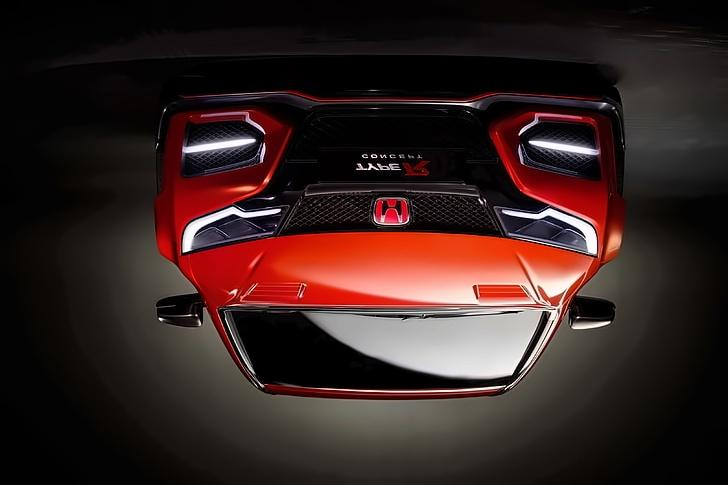Car hood: (171, 232, 600, 316)
Front bumper: (146, 74, 635, 211)
Headlight - -L-: (180, 198, 294, 256)
Headlight - -R-: (490, 198, 598, 256)
Side mirror - -L-: (156, 290, 205, 331)
Side mirror - -R-: (565, 295, 615, 331)
